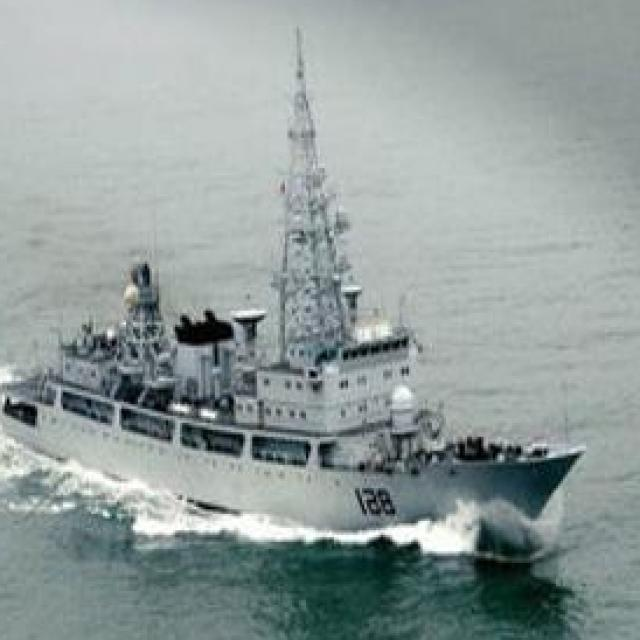navalvessels: (0, 28, 591, 533)
